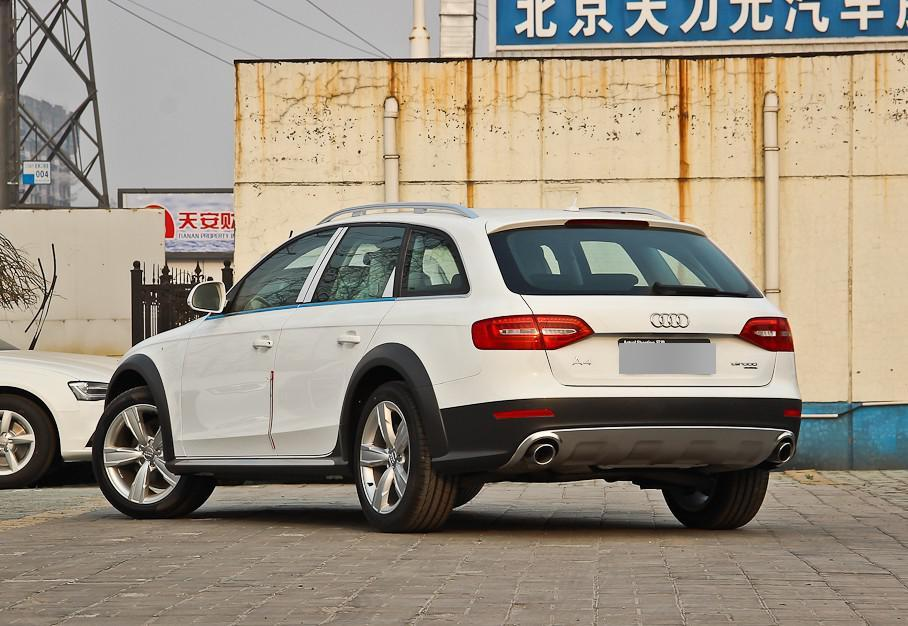Wagon: (92, 200, 803, 536)
